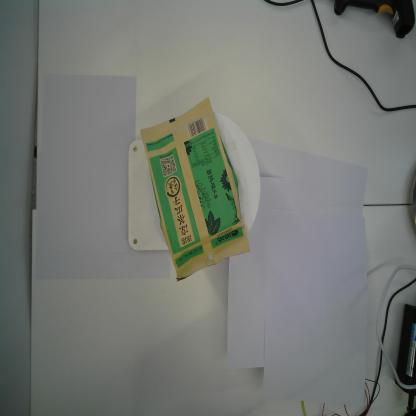Dried Food: (139, 94, 254, 286)
